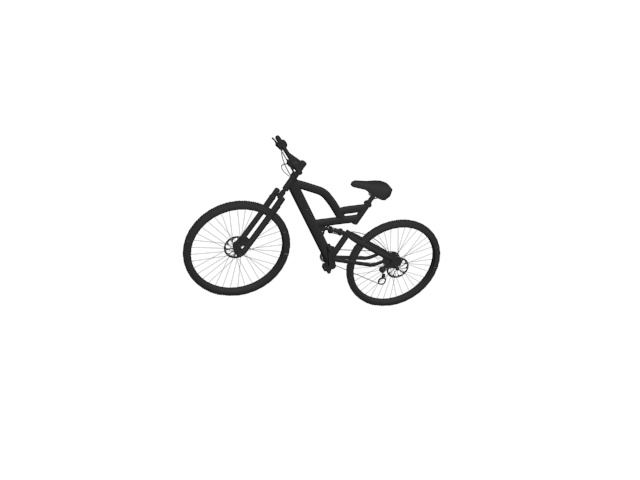bike: (177, 129, 448, 312)
